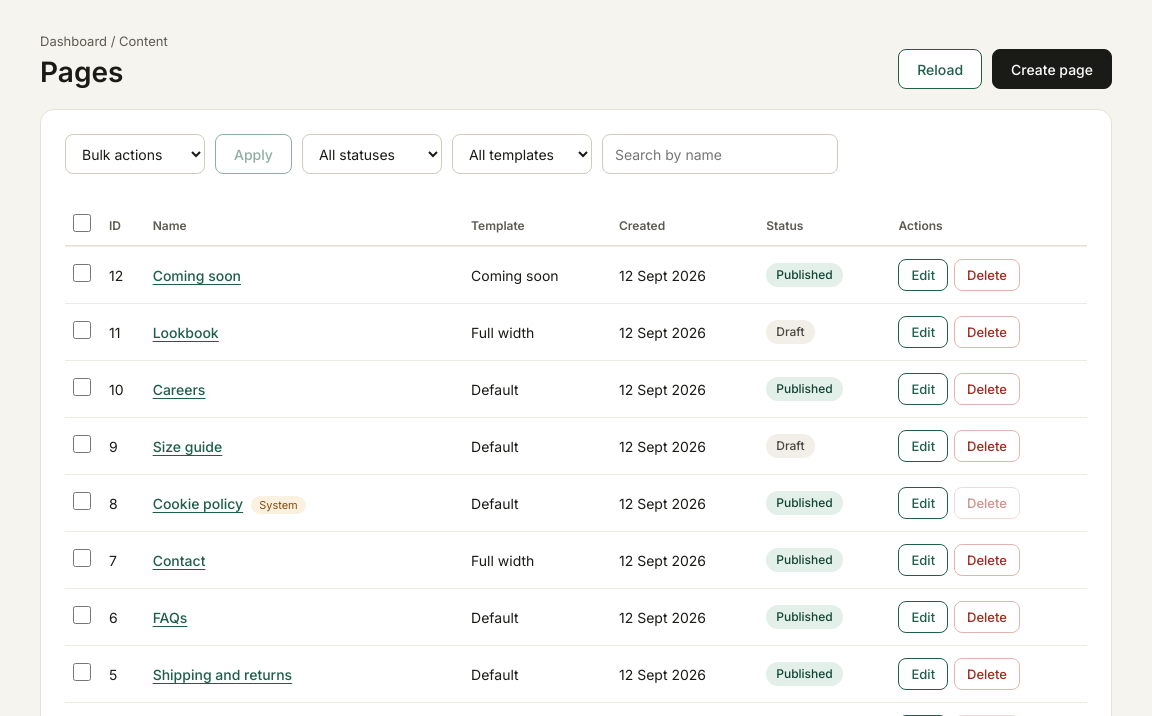
Test: PagesModule › lists pages and filters by search
Expected: the button "Contact" is shown, [153, 550, 205, 571]
Type "faq" into the search field named "Search pages by name" at [720, 154], box [602, 134, 838, 174]
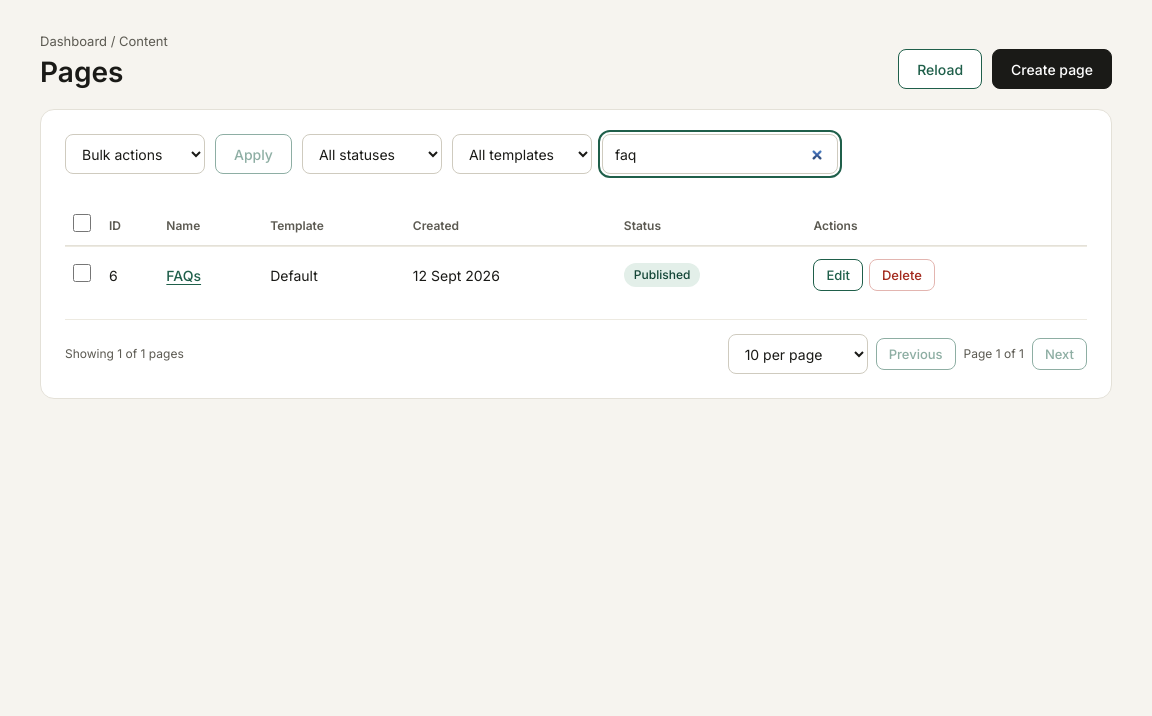
Expected: the button "FAQs" is shown, [166, 265, 201, 286]
Expected: the button "Contact" is gone
